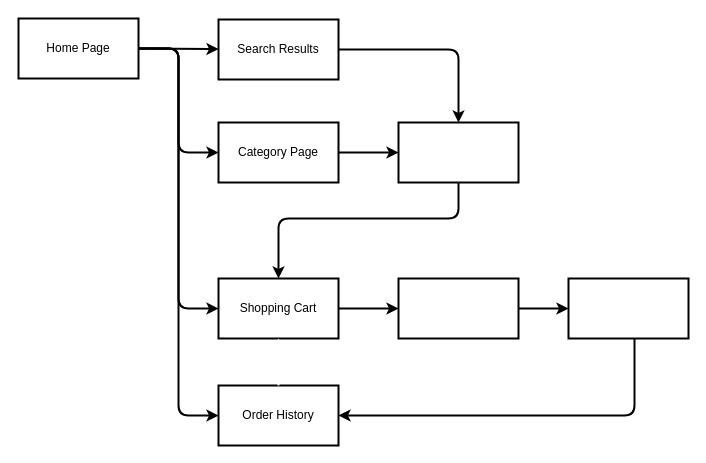
Image size: 706x463. Some labels were removed from this diagram. Each missing label, with the box of its shape:
Checkout: (397, 277, 519, 339)
Order Confirmation: (567, 277, 689, 339)
Product Detail: (397, 121, 519, 183)
